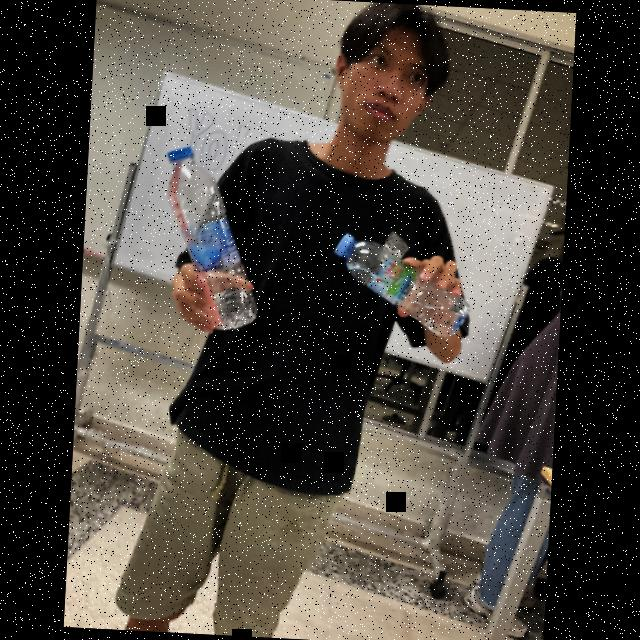plastic_bottle: (159, 145, 267, 332), (331, 228, 473, 342)
